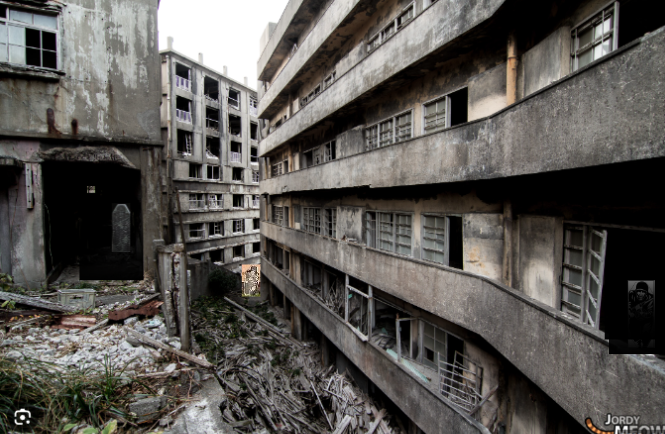HVT1: (628, 280, 654, 316), (112, 204, 131, 252), (246, 266, 259, 296)
